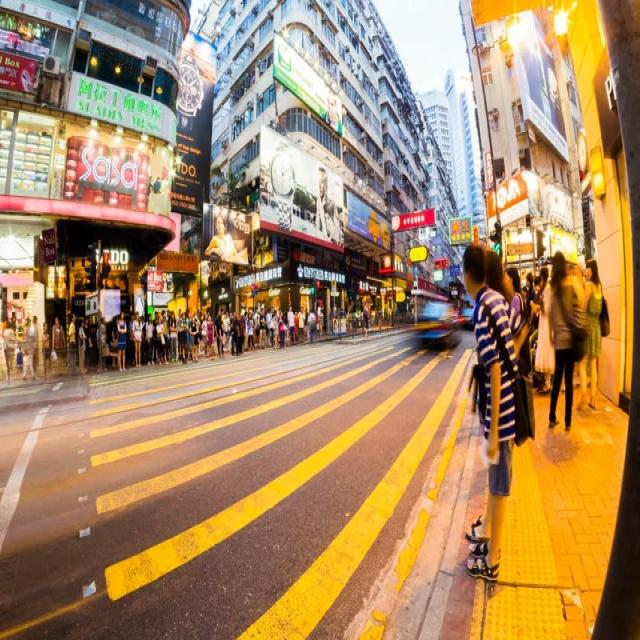body: (461, 236, 537, 587), (465, 247, 514, 548), (547, 248, 586, 431), (575, 257, 604, 413), (502, 263, 532, 380), (534, 264, 557, 396), (518, 268, 543, 385), (312, 161, 344, 247), (206, 209, 252, 267), (542, 56, 566, 140), (315, 86, 345, 138), (49, 314, 66, 378), (20, 315, 36, 381), (228, 309, 248, 355), (2, 318, 15, 386), (130, 308, 144, 368), (115, 310, 127, 374), (155, 315, 169, 365), (142, 310, 154, 366), (68, 312, 79, 373), (77, 317, 88, 375), (98, 316, 109, 373), (40, 320, 50, 381), (178, 309, 189, 364), (213, 307, 225, 357), (204, 312, 216, 360), (144, 168, 162, 200), (190, 311, 202, 357), (0, 311, 11, 361), (110, 315, 120, 368), (159, 308, 169, 361), (168, 311, 178, 364), (286, 304, 298, 347), (189, 313, 199, 363), (174, 305, 183, 360), (127, 311, 136, 364), (83, 315, 91, 373), (200, 310, 210, 354), (252, 306, 262, 350), (184, 307, 192, 361), (152, 311, 160, 364), (306, 307, 317, 345), (258, 306, 267, 350), (216, 313, 224, 360), (246, 311, 255, 352), (8, 315, 16, 361), (466, 34, 479, 62), (264, 306, 273, 346), (277, 310, 286, 350), (296, 304, 305, 344), (272, 308, 280, 352), (90, 324, 98, 367), (180, 311, 187, 357), (375, 302, 384, 334), (220, 308, 226, 353), (222, 311, 231, 341), (362, 298, 370, 330), (292, 306, 299, 342), (28, 313, 38, 336), (269, 312, 275, 348), (497, 160, 507, 181), (318, 307, 324, 336), (332, 317, 340, 333), (394, 304, 400, 323), (140, 313, 146, 328)
